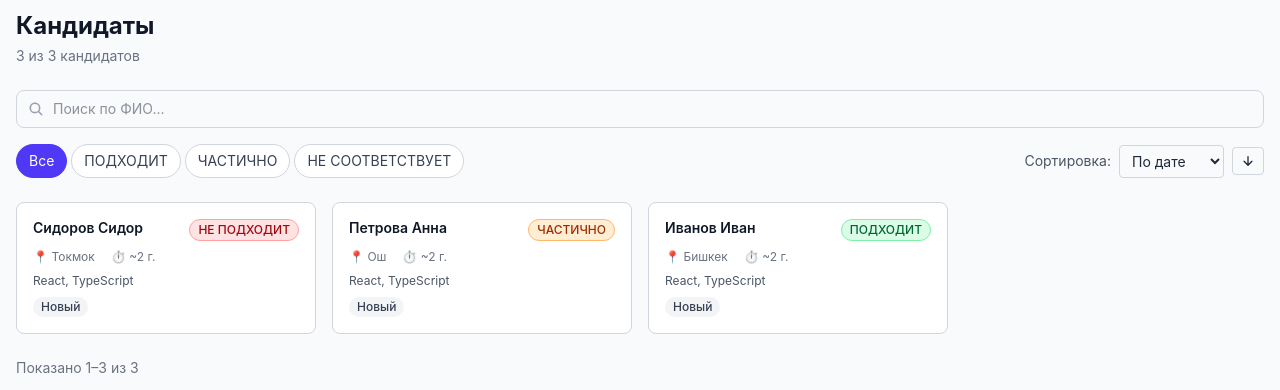
Test: Интеграция: список кандидатов → детальная страница › фильтрует кандидатов по вердикту через кнопку
Check: the heading "Иванов Иван" is shown, box [665,219,756,236]
Note: Кликаем фильтр ПОДХОДИТ
Click the button "ПОДХОДИТ". click: point(126, 161)
box: [71,144,181,178]
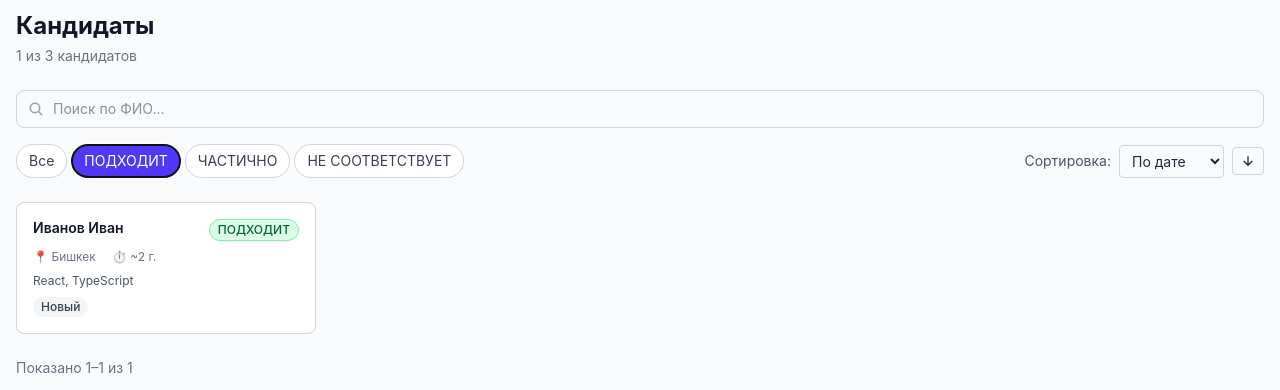
Check: the heading "Иванов Иван" is shown, box [33,219,124,236]
Check: the link "Петрова Анна" is gone
Check: the link "Сидоров Сидор" is gone
